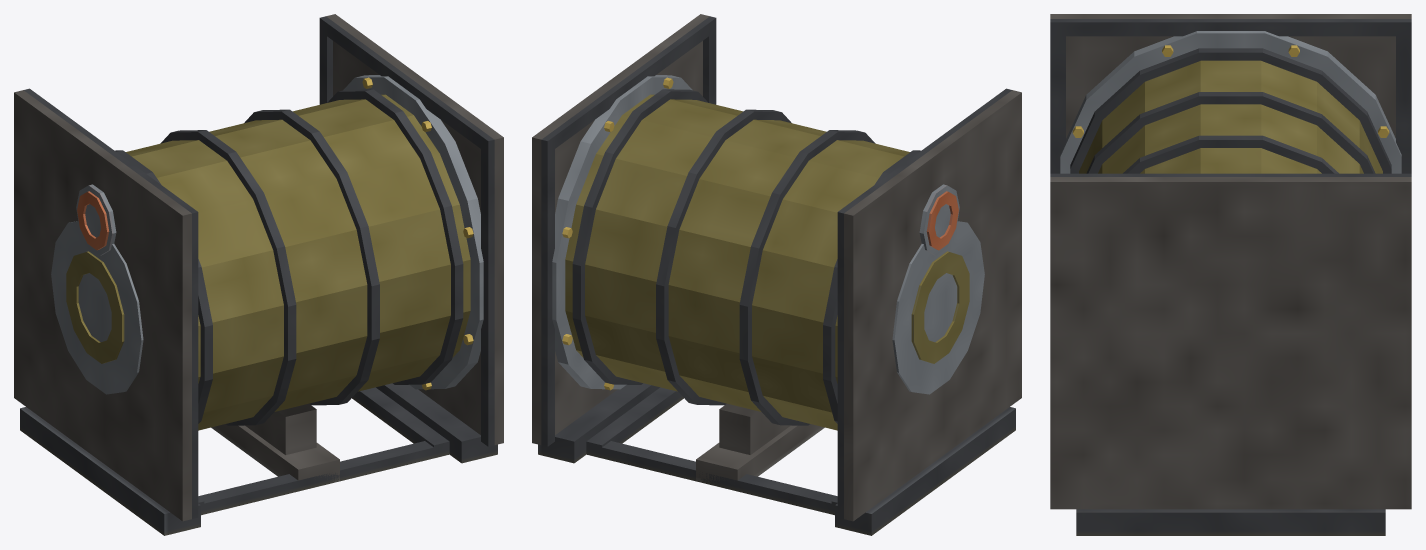
The model's file is heatexchanger.obj.
3 views of the same model, side by side, from view 1: azimuth 30°, elevation 25°; view 2: azimuth 150°, elevation 25°; view 3: azimuth 270°, elevation 25° (orthographic). The views are drawn at different scales.
Parts seen in each view (by area): view 1: shell, flange; view 2: shell, flange; view 3: shell.
Boxes of the visible parts, bbox=[...] form: shell: bbox=[14, 14, 503, 535]; flange: bbox=[51, 184, 143, 394]; shell: bbox=[532, 14, 1021, 535]; flange: bbox=[892, 184, 984, 394]; shell: bbox=[1050, 14, 1411, 535].
Bounding box in the file's own units: 1 × 0.9375 × 0.875.
Materials: 1 (1 with a texture image).
